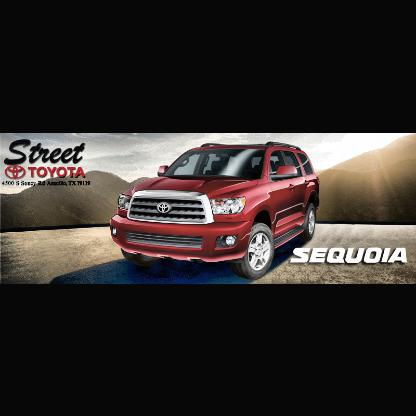Toyota Sequoia SUV 2012: (111, 142, 321, 278)
